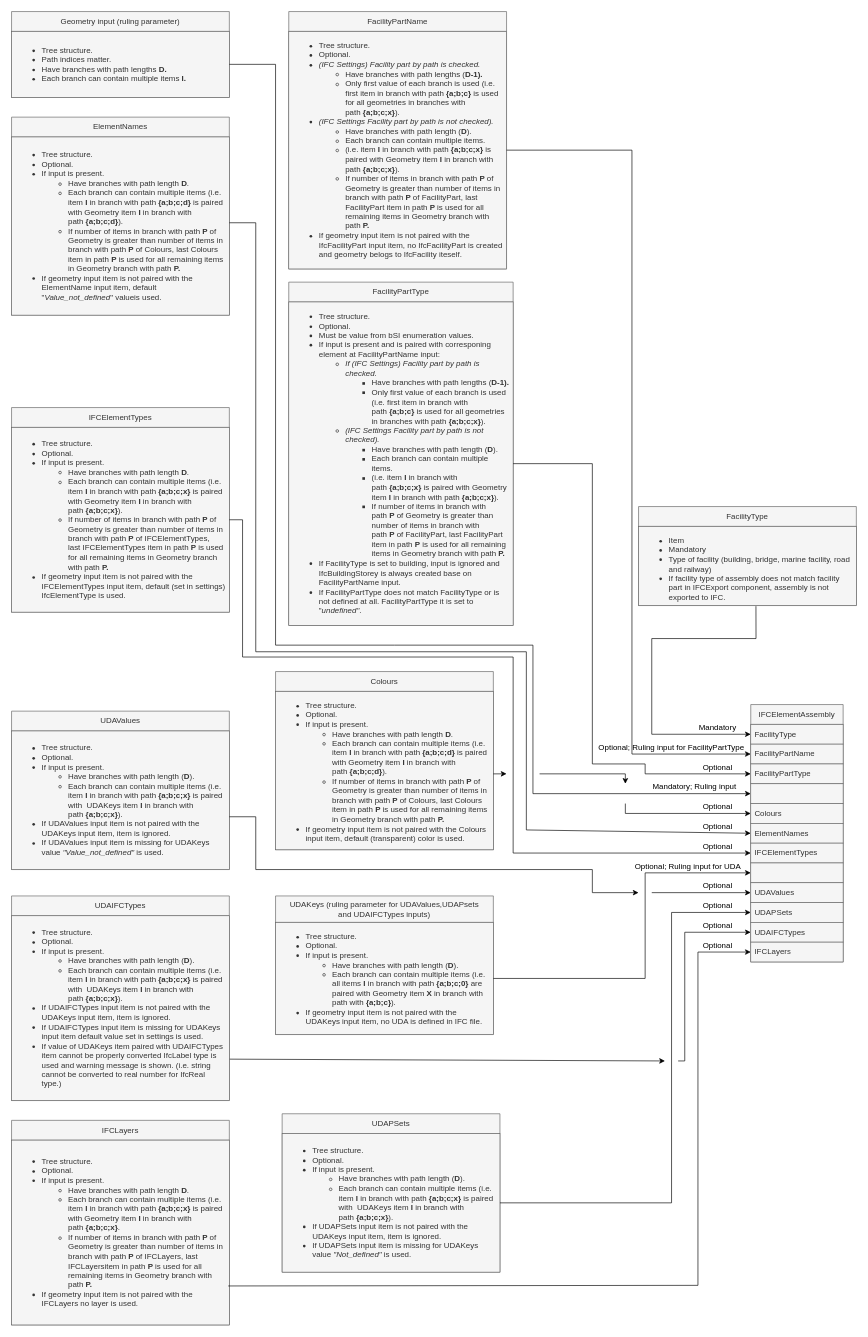
The diagram is 868 pixels wide and 1337 high, and some of its shapes have lost their labels. Here are the shapes that lost their labels. From the top down, the centre of each, then its label:
At pixel 796 793: "Geometry".
At pixel 796 872: "UDAKeys".
